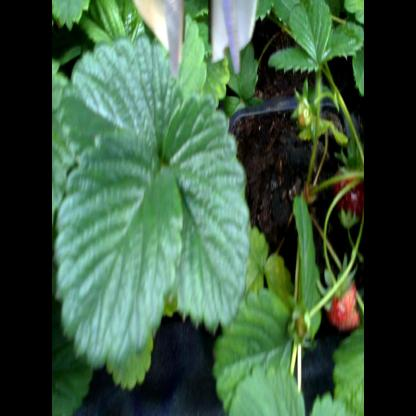ripe: (318, 279, 364, 341), (331, 155, 363, 222)
